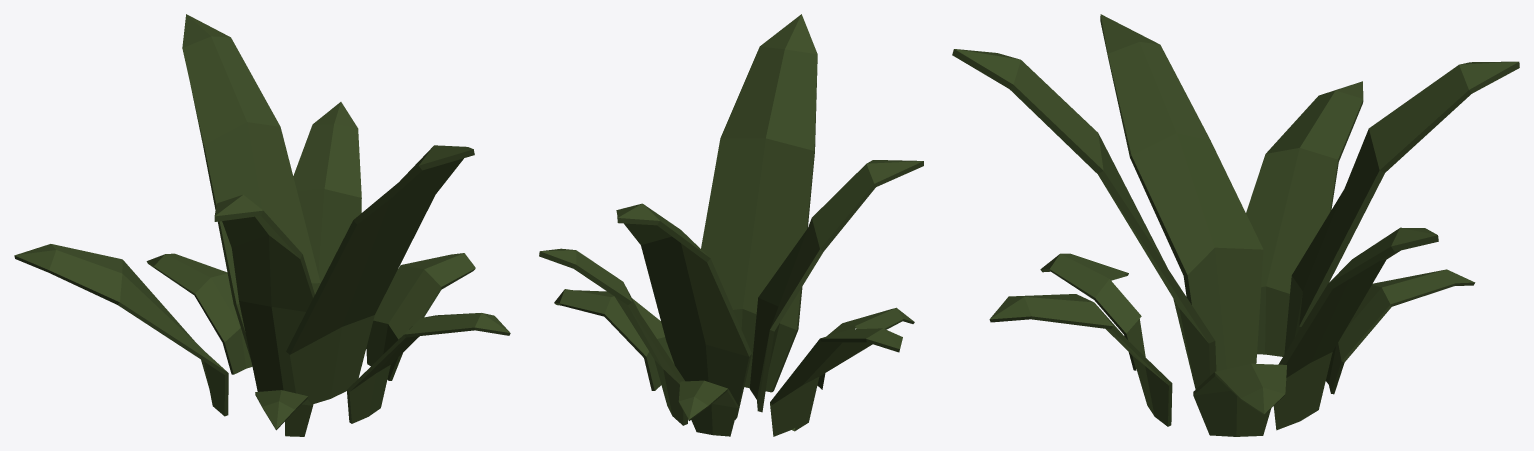
File: Grass6.fbx
The picture shows the model from 3 angles, left to right: view 1: azimuth 30°, elevation 25°; view 2: azimuth 150°, elevation 25°; view 3: azimuth 270°, elevation 25°; orthographic projection. The views are drawn at different scales.
Parts seen in each view (by area): view 1: Fern; view 2: Fern; view 3: Fern.
Part boxes in pixels (x1,y1,x2,y2): Fern: (14,14,510,436); Fern: (539,14,923,436); Fern: (952,14,1519,436).
Bounding box in the file's own units: 109 × 81.16 × 110.
